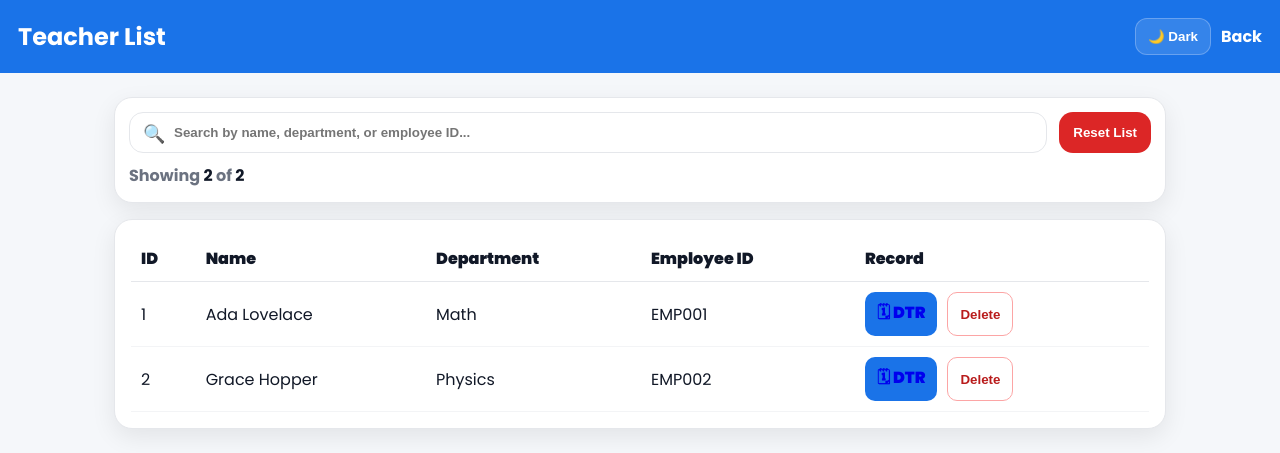
filters by search input
Expected: the text "Ada Lovelace" is shown, [196,282,426,346]
Type "math" into the field with placeholder "Search by name, department, or employee ID..." at point(588, 132), box [129,112,1047,153]
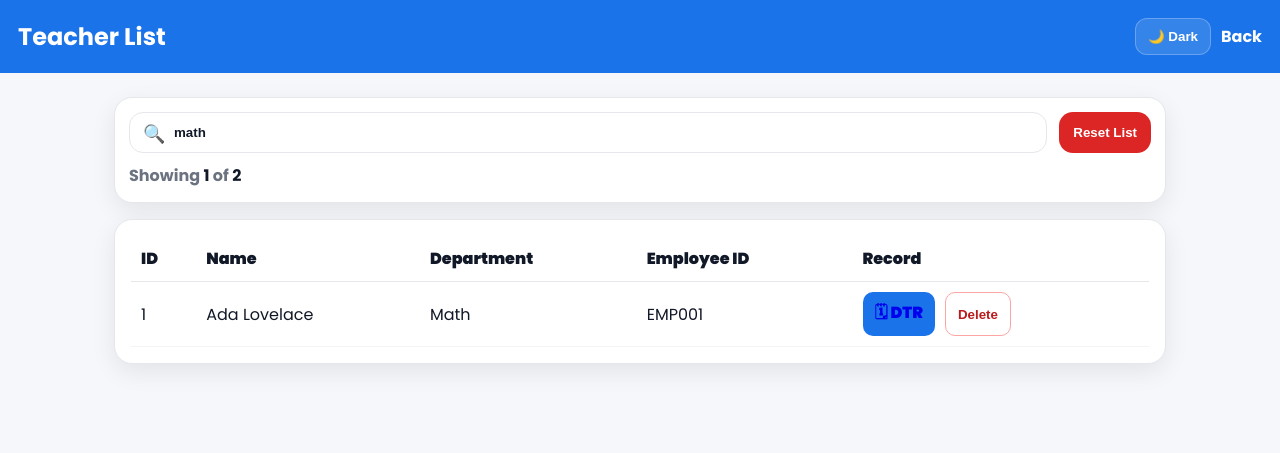
Expected: the text "Ada Lovelace" is shown, [196,282,420,346]
Result: the text "Grace Hopper" is gone
